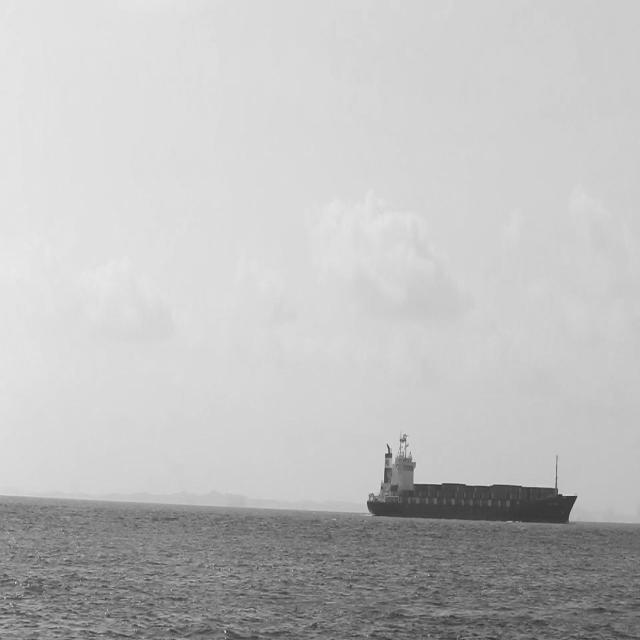ship: (369, 435, 579, 526)
